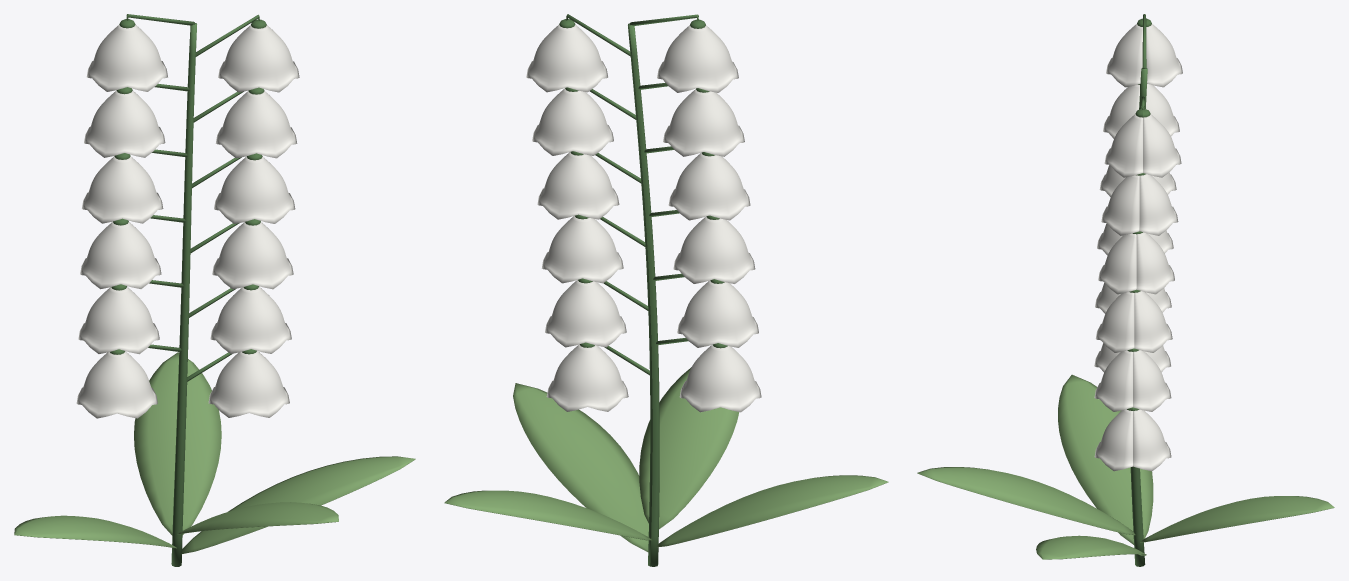
File: lily-legendary-v2.glb
3 views of the same model, side by side, from view 1: azimuth 30°, elevation 25°; view 2: azimuth 150°, elevation 25°; view 3: azimuth 270°, elevation 25° (orthographic). The views are drawn at different scales.
Visible parts, largest first — view 1: lily-legendary-v2-petal, lily-legendary-v2-leaf, lily-legendary-v2-stem; view 2: lily-legendary-v2-petal, lily-legendary-v2-leaf, lily-legendary-v2-stem; view 3: lily-legendary-v2-petal, lily-legendary-v2-leaf, lily-legendary-v2-stem.
Part boxes in pixels (x1=…): lily-legendary-v2-petal: x1=76, y1=24, x2=299, y2=418; lily-legendary-v2-leaf: x1=14, y1=352, x2=415, y2=554; lily-legendary-v2-stem: x1=110, y1=14, x2=266, y2=566; lily-legendary-v2-petal: x1=526, y1=24, x2=761, y2=412; lily-legendary-v2-leaf: x1=444, y1=367, x2=888, y2=551; lily-legendary-v2-stem: x1=559, y1=14, x2=727, y2=566; lily-legendary-v2-petal: x1=1094, y1=24, x2=1182, y2=471; lily-legendary-v2-leaf: x1=917, y1=374, x2=1334, y2=559; lily-legendary-v2-stem: x1=1127, y1=14, x2=1151, y2=566.
Size of the model in its own units: 1.42 by 1.97 by 1.41.
